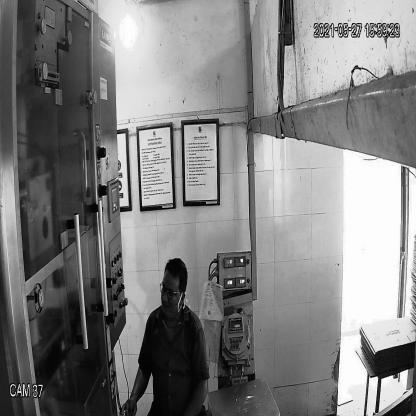goggles: (158, 279, 186, 301)
